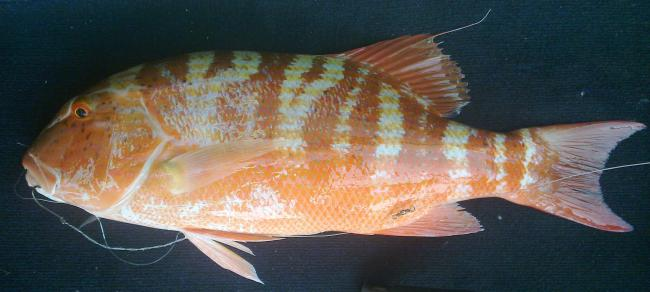fish: (22, 32, 648, 287)
